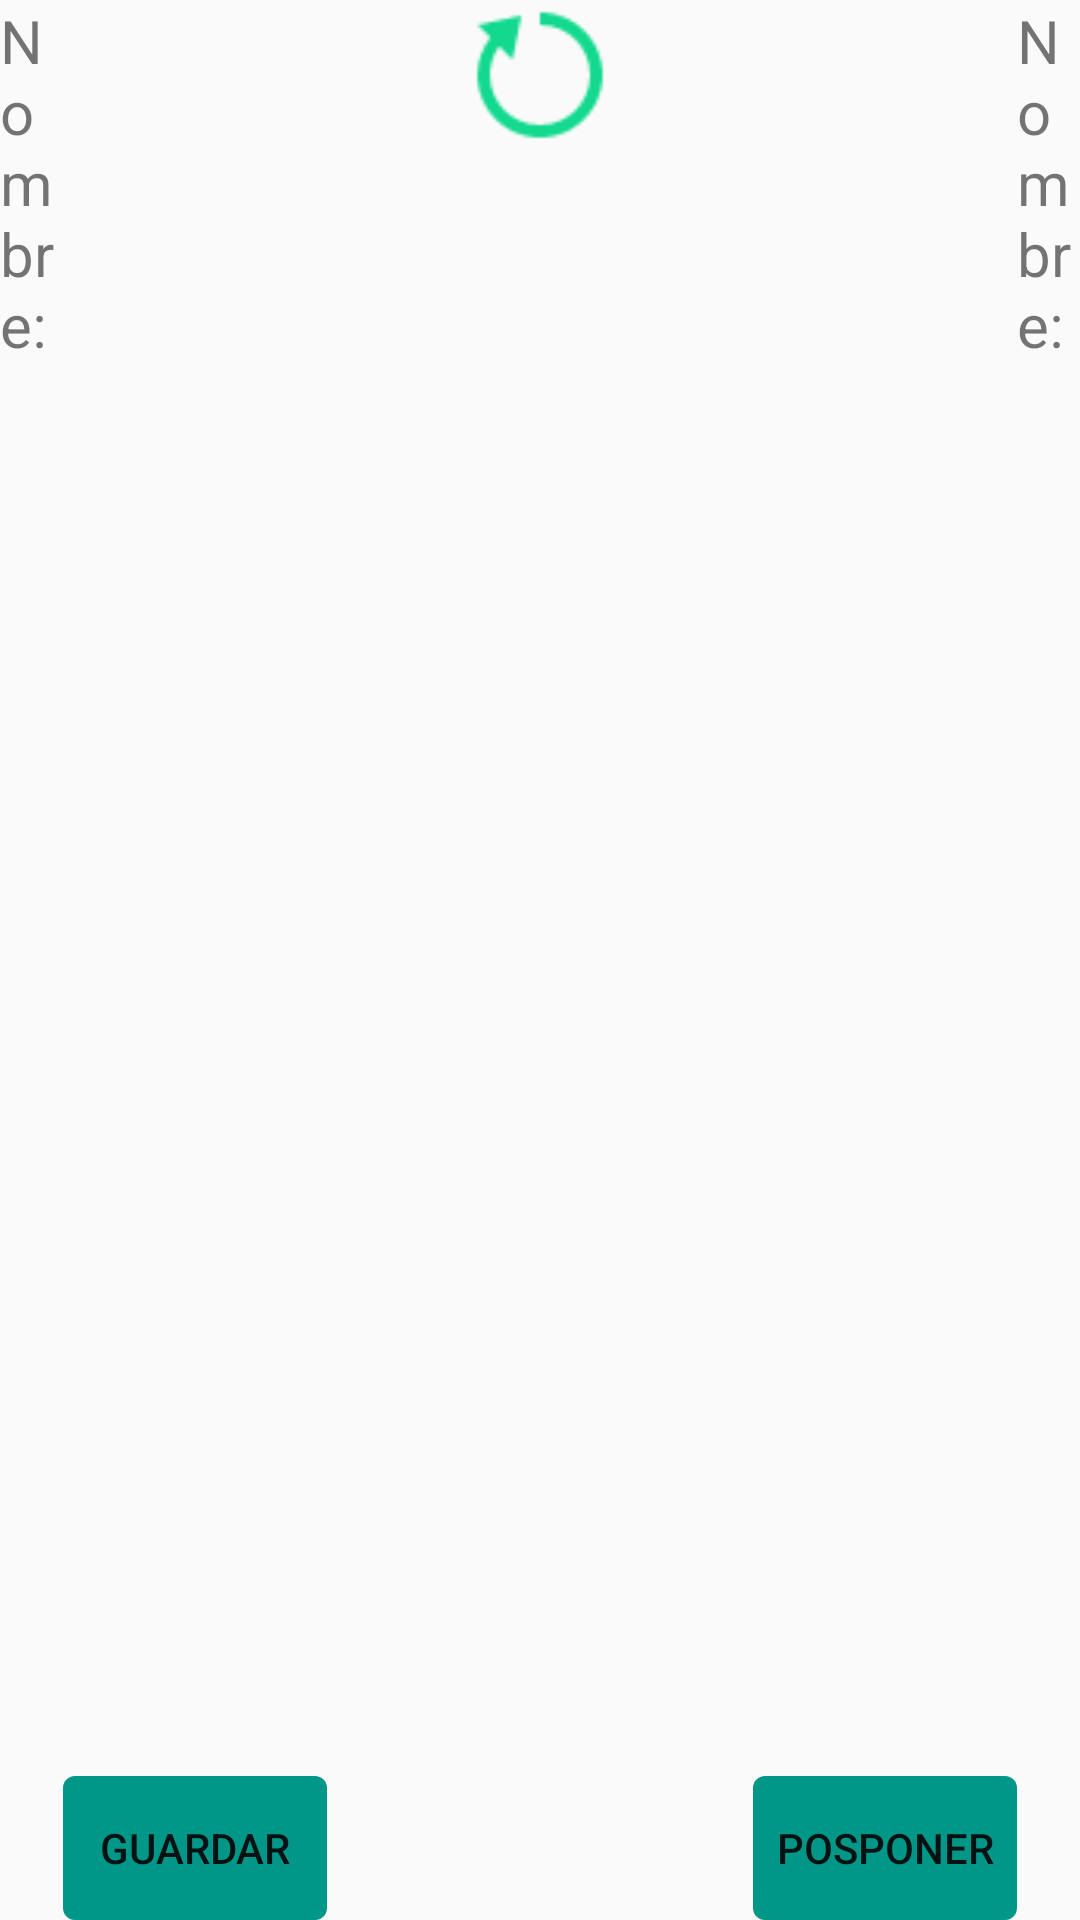

Icon bounding boxes for this 1080 × 1920 phone screenshot, format (x1, y1, x2, y2):
restart: (476, 11, 604, 139)
